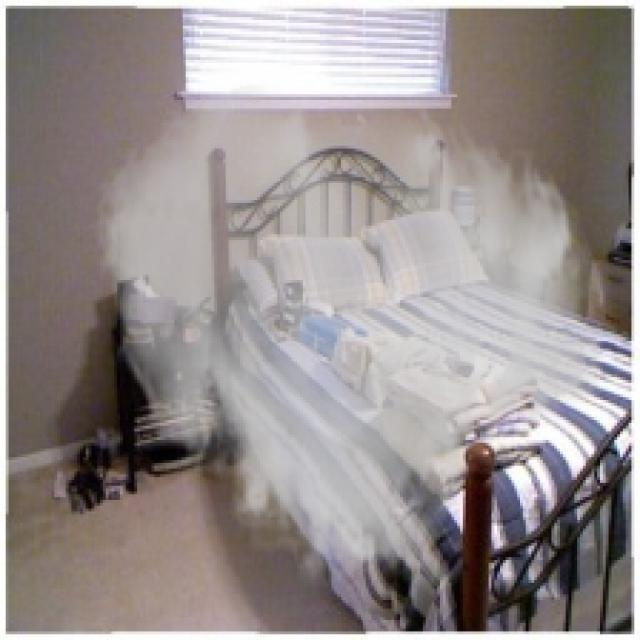Smoke: (91, 80, 612, 600)
